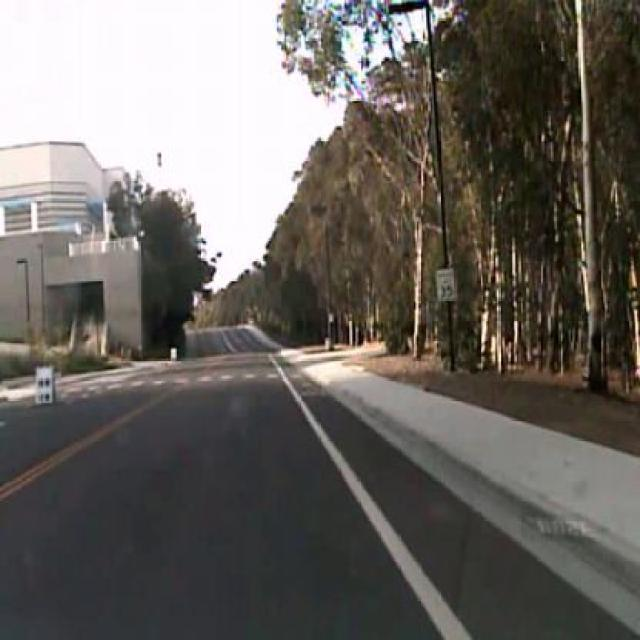speedLimit35: (437, 264, 458, 302)
